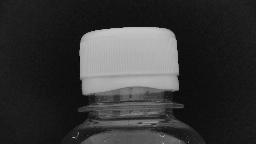Loose Cap: (69, 72, 187, 116)
